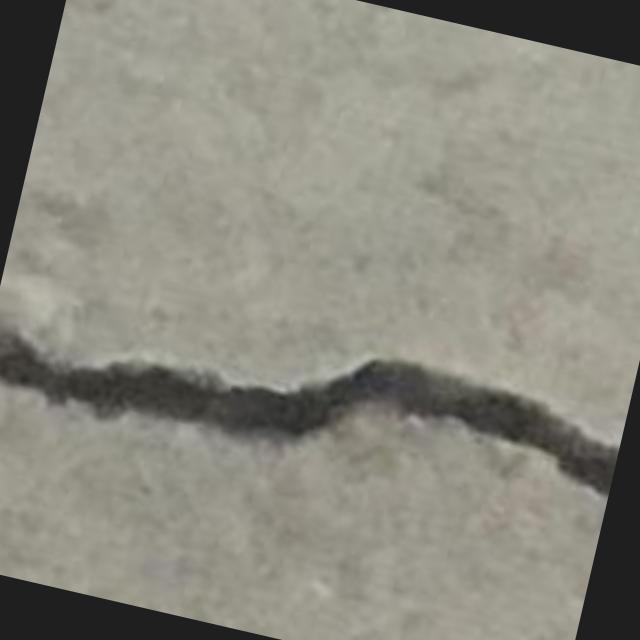crack: (0, 333, 618, 494)
